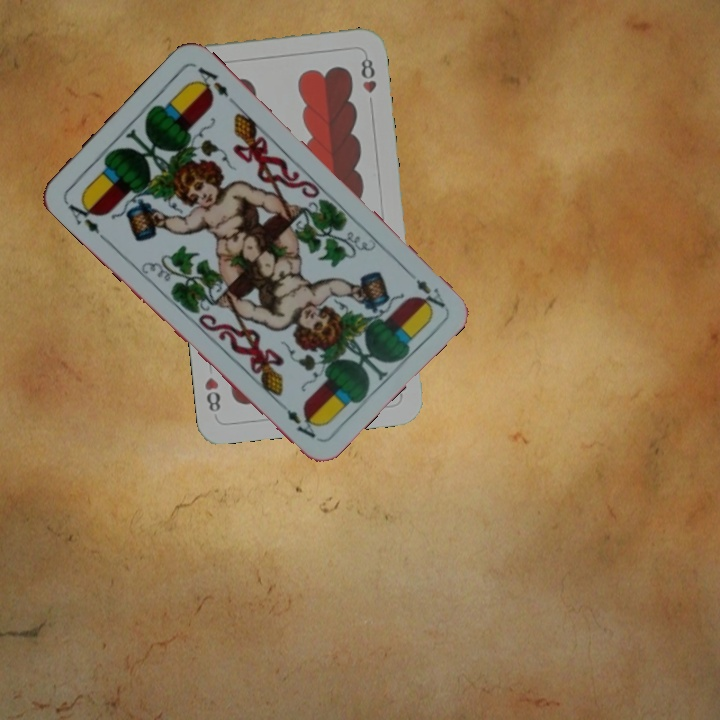EA: (61, 195, 109, 243), (401, 265, 448, 313)
